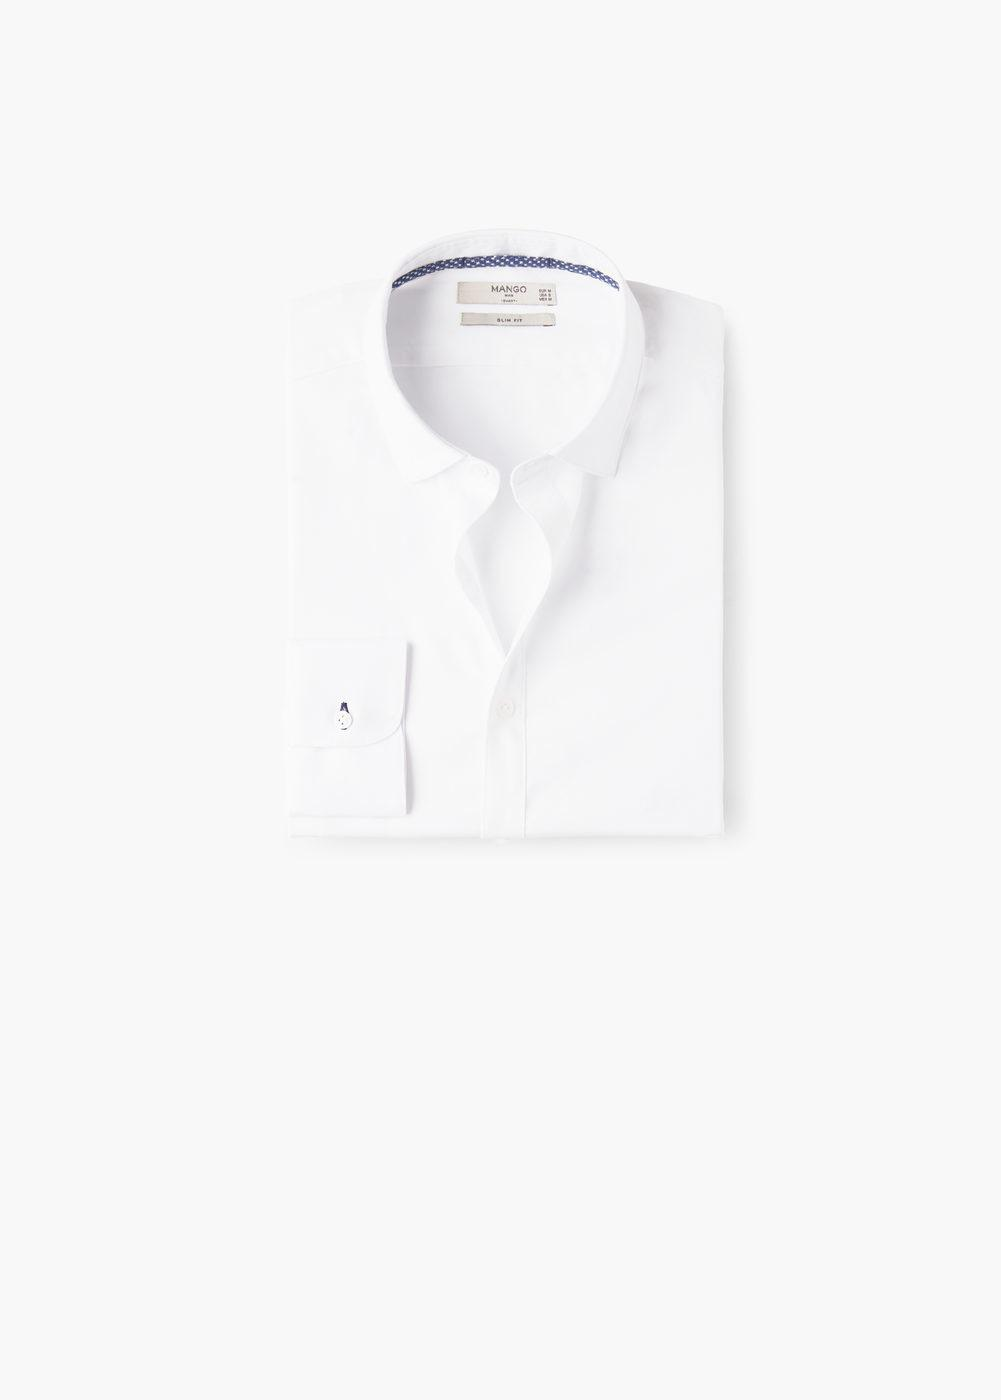teeshirt: (274, 228, 773, 876)
